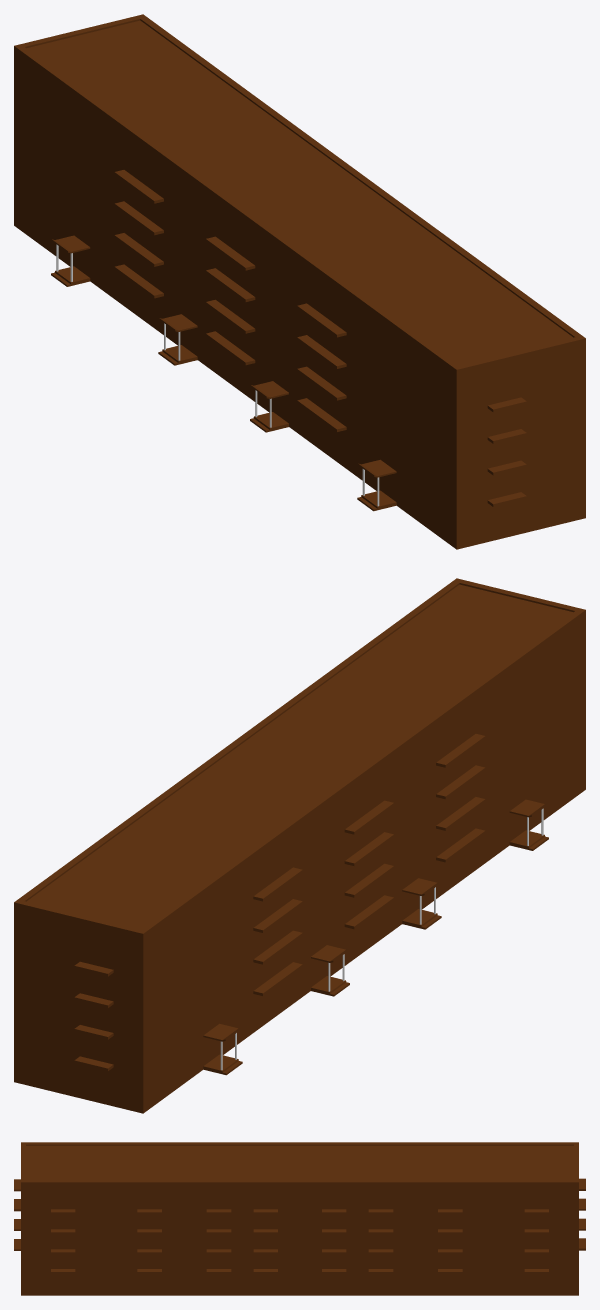
File: khrushevka norm.fbx
3 renders of one model, top to bottom at view 1: azimuth 30°, elevation 25°; view 2: azimuth 150°, elevation 25°; view 3: azimuth 270°, elevation 25°, orthographic. The views are drawn at different scales.
Visible parts, largest first — view 1: Khrushchyovka.015; view 2: Khrushchyovka.015; view 3: Khrushchyovka.015.
Part boxes in pixels (x1,y1,x2,y2): Khrushchyovka.015: (14,14,585,549); Khrushchyovka.015: (14,578,585,1113); Khrushchyovka.015: (14,1142,585,1295).
Bounding box in the file's own units: 1505 × 1595 × 7300.
